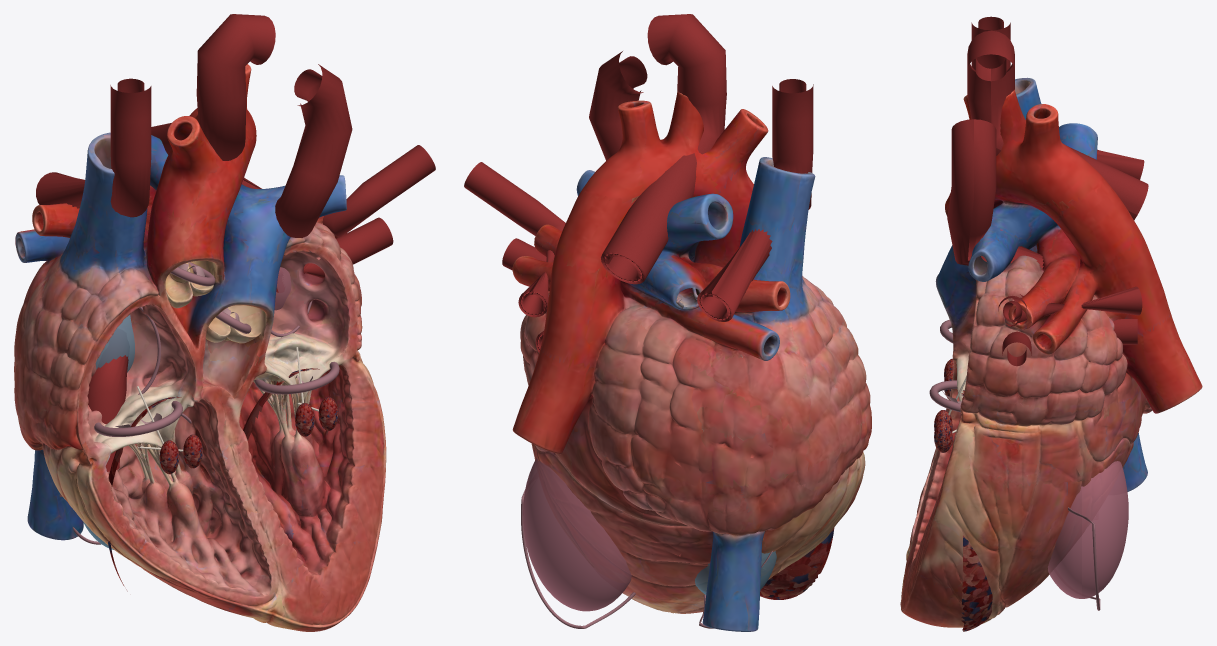
The model's file is heart_segmented.glb.
The picture shows the model from 3 angles, left to right: view 1: azimuth 30°, elevation 25°; view 2: azimuth 150°, elevation 25°; view 3: azimuth 270°, elevation 25°; orthographic projection. The views are drawn at different scales.
Visible parts, largest first — view 1: HeartBody, PulmonaryTrunk, Aorta, SVC, PulmonaryVeinL, IVC, PulmonaryVeinR, BloodRA, AnnulusTricuspid, AnnulusMitral; view 2: HeartBody, Aorta, BloodLV, SVC, PulmonaryVeinL, PulmonaryTrunk, WallRV, CavityLipLV, PulmonaryVeinR, BloodRV; view 3: HeartBody, BloodLV, PulmonaryTrunk, Aorta, WallLV, PulmonaryVeinL, SVC, PulmonaryVeinR, AnnulusMitral, PapillaryMitral2, CavityLipLV.
Boxes of the visible parts, bbox=[...] form: HeartBody: bbox=[14, 64, 386, 631]; PulmonaryTrunk: bbox=[275, 64, 352, 237]; Aorta: bbox=[151, 14, 275, 160]; SVC: bbox=[36, 78, 151, 217]; PulmonaryVeinL: bbox=[242, 145, 435, 236]; IVC: bbox=[87, 329, 129, 471]; PulmonaryVeinR: bbox=[276, 217, 393, 292]; BloodRA: bbox=[95, 315, 134, 372]; AnnulusTricuspid: bbox=[94, 401, 182, 436]; AnnulusMitral: bbox=[254, 361, 339, 394]; HeartBody: bbox=[512, 91, 871, 631]; Aorta: bbox=[601, 14, 726, 284]; BloodLV: bbox=[523, 458, 631, 611]; SVC: bbox=[697, 79, 813, 321]; PulmonaryVeinL: bbox=[464, 162, 565, 317]; PulmonaryTrunk: bbox=[589, 51, 647, 160]; WallRV: bbox=[760, 528, 834, 599]; CavityLipLV: bbox=[521, 479, 635, 628]; PulmonaryVeinR: bbox=[502, 238, 546, 352]; BloodRV: bbox=[695, 551, 776, 594]; HeartBody: bbox=[900, 77, 1202, 627]; BloodLV: bbox=[1047, 461, 1128, 598]; PulmonaryTrunk: bbox=[947, 119, 1043, 269]; Aorta: bbox=[967, 30, 1148, 220]; WallLV: bbox=[961, 390, 992, 631]; PulmonaryVeinL: bbox=[998, 286, 1142, 326]; SVC: bbox=[971, 16, 1144, 179]; PulmonaryVeinR: bbox=[1002, 319, 1137, 366]; AnnulusMitral: bbox=[929, 380, 960, 412]; PapillaryMitral2: bbox=[934, 420, 952, 452]; CavityLipLV: bbox=[1068, 507, 1100, 610].
Bounding box in the file's own units: 0.0997 × 0.1465 × 0.0701.
Materials: 10 (4 with a texture image).
